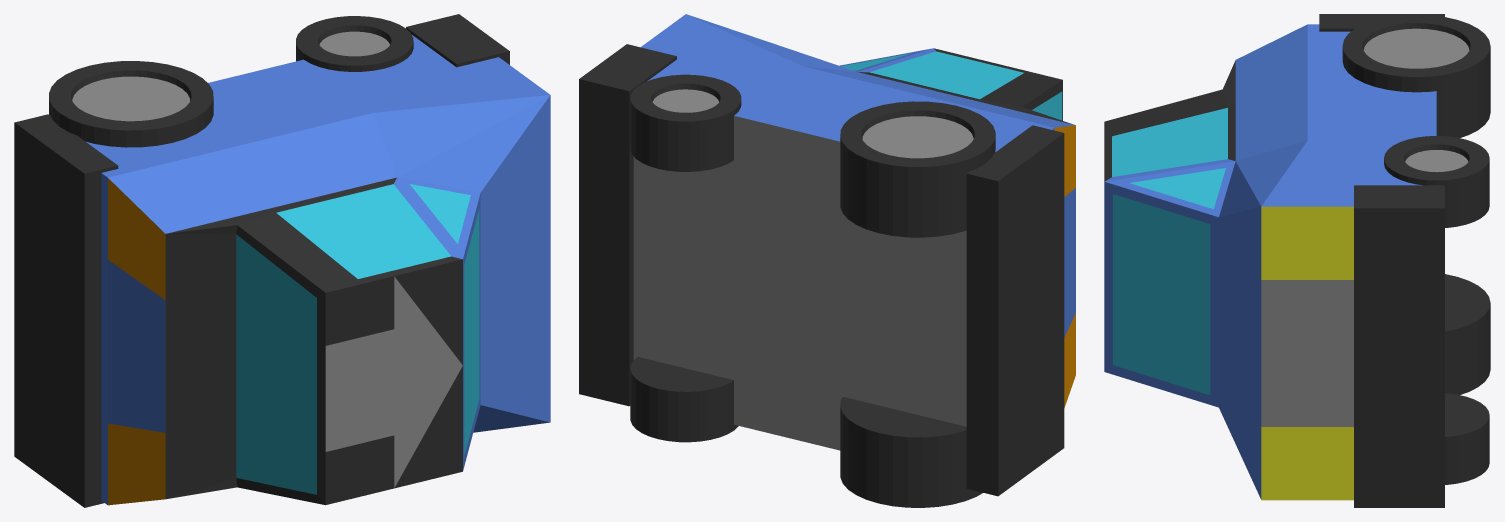
File: Poki_Car_space_cars_01_Smallcar02.glb
3 renders of one model, left to right at view 1: azimuth 30°, elevation 25°; view 2: azimuth 150°, elevation 25°; view 3: azimuth 270°, elevation 25°, orthographic. The views are drawn at different scales.
Visible parts, largest first — view 1: ESCAPARK_smallcar_02; view 2: ESCAPARK_smallcar_02; view 3: ESCAPARK_smallcar_02.
Boxes of the visible parts, left/top/right/bottom form: ESCAPARK_smallcar_02: left=14, top=14, right=550, bottom=507; ESCAPARK_smallcar_02: left=579, top=14, right=1075, bottom=507; ESCAPARK_smallcar_02: left=1104, top=14, right=1490, bottom=507.
Size of the model in its own units: 9.94 by 7.72 by 8.34.
1 material, 1 textured.
